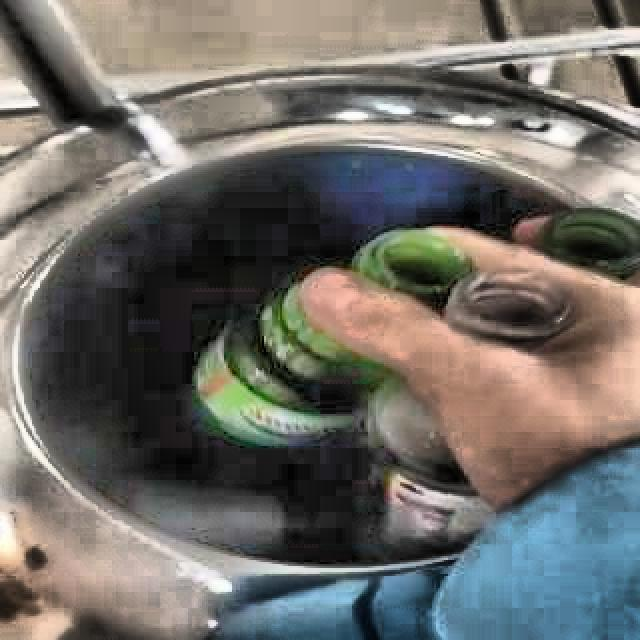glass: (195, 284, 493, 556), (349, 231, 573, 350), (544, 210, 640, 278)
